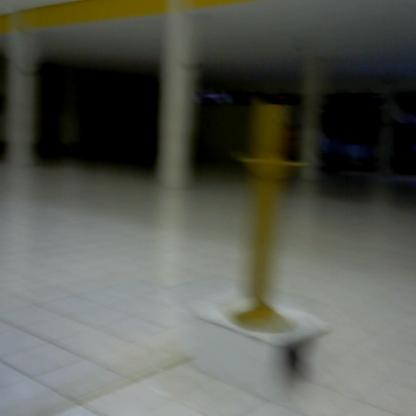pole: (234, 94, 304, 339)
